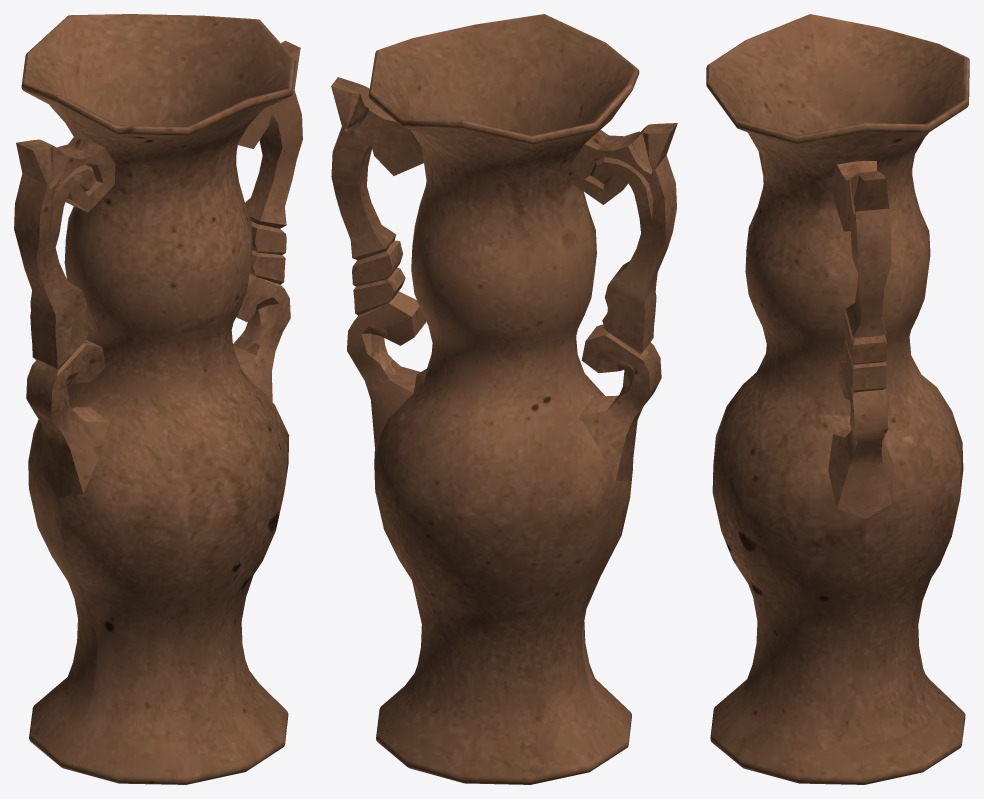
Rendered from Vase_01.glb.
3 renders of one model, left to right at view 1: azimuth 30°, elevation 25°; view 2: azimuth 150°, elevation 25°; view 3: azimuth 270°, elevation 25°, orthographic.
Parts seen in each view (by area): view 1: SM_Vase_01; view 2: SM_Vase_01; view 3: SM_Vase_01.
Part boxes in pixels (x1,y1,x2,y2): SM_Vase_01: [14, 14, 302, 784]; SM_Vase_01: [331, 14, 677, 784]; SM_Vase_01: [706, 14, 969, 784].
Bounding box in the file's own units: 0.1512 × 0.3137 × 0.1129.
Materials: 1 (1 with a texture image).
